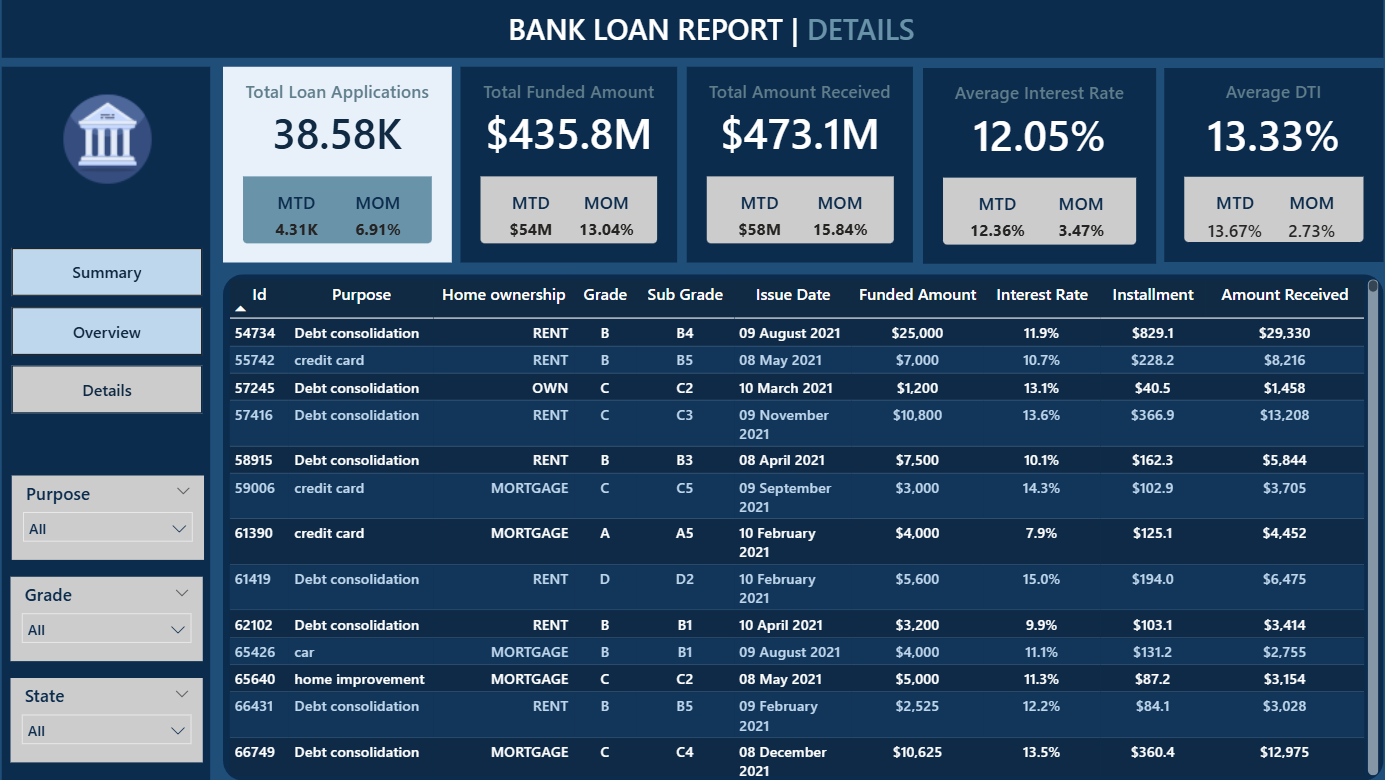

What the dashboard file says about the page in this screenshot:
{"tool":"powerbi","page":{"name":"Details","canvas":[1280,720],"ordinal":2},"visuals":[{"type":"shape","box":[3.9,0,1270.6,55],"z":0},{"type":"shape","box":[3.9,63.3,191.7,656.7],"z":1000},{"type":"textbox","box":[434.1,4.5,443,50.1],"z":2000},{"type":"cardVisual","fields":{"Data":["bank_loan_data.Total Loan Applications"]},"box":[207.1,62.9,210,180],"z":3000},{"type":"cardVisual","fields":{"Data":["bank_loan_data.Total Funded Amount"]},"box":[425.5,63.3,199.4,180],"z":4000},{"type":"cardVisual","fields":{"Data":["bank_loan_data.Total Amount Received"]},"box":[633.3,63.3,208.3,180],"z":5000},{"type":"shape","box":[207.1,254.3,1067.1,465.7],"z":6000},{"type":"cardVisual","fields":{"Data":["bank_loan_data.Average Interest Rate"]},"box":[850,63.9,214.4,180],"z":7000},{"type":"cardVisual","fields":{"Data":["bank_loan_data.Avg DTI"]},"box":[1072.9,64.3,201.4,178.6],"z":8000},{"type":"slicer","fields":{"Values":["bank_loan_data.address_state"]},"box":[11.1,625.3,176.7,77.8],"z":9000},{"type":"slicer","fields":{"Values":["bank_loan_data.grade"]},"box":[11.1,531.9,176.7,77.8],"z":10000},{"type":"slicer","fields":{"Values":["bank_loan_data.purpose"]},"box":[12.2,438.6,176.7,77.8],"z":11000},{"type":"tableEx","fields":{"Values":["bank_loan_data.id","bank_loan_data.purpose","bank_loan_data.home_ownership","bank_loan_data.grade","bank_loan_data.sub_grade","bank_loan_data.issue_date","bank_loan_data.Total Funded Amount","Sum(bank_loan_data.int_rate)","Sum(bank_loan_data.installment)","bank_loan_data.Total Amount Received"]},"box":[207.1,254.3,1067.1,465.7],"z":12000},{"type":"image","box":[47.1,85.7,107.1,87.1],"z":12001},{"type":"pageNavigator","box":[12.9,230,175.7,154.3],"z":12002}]}

Visuals, with their boxes in screenshot pixels (x1, y1, x2, y2), scaled from the page's 1280x720 canvas onto the 1385x780 screenshot:
shape: 4/0/1379/60
shape: 4/69/212/779
textbox: 470/5/949/59
cardVisual - bank_loan_data.Total Loan Applications: 224/68/451/263
cardVisual - bank_loan_data.Total Funded Amount: 460/69/676/264
cardVisual - bank_loan_data.Total Amount Received: 685/69/911/264
shape: 224/275/1379/779
cardVisual - bank_loan_data.Average Interest Rate: 920/69/1152/264
cardVisual - bank_loan_data.Avg DTI: 1161/70/1379/263
slicer - bank_loan_data.address_state: 12/677/203/762
slicer - bank_loan_data.grade: 12/576/203/661
slicer - bank_loan_data.purpose: 13/475/204/559
tableEx - bank_loan_data.id x bank_loan_data.purpose: 224/275/1379/779
image: 51/93/167/187
pageNavigator: 14/249/204/416
